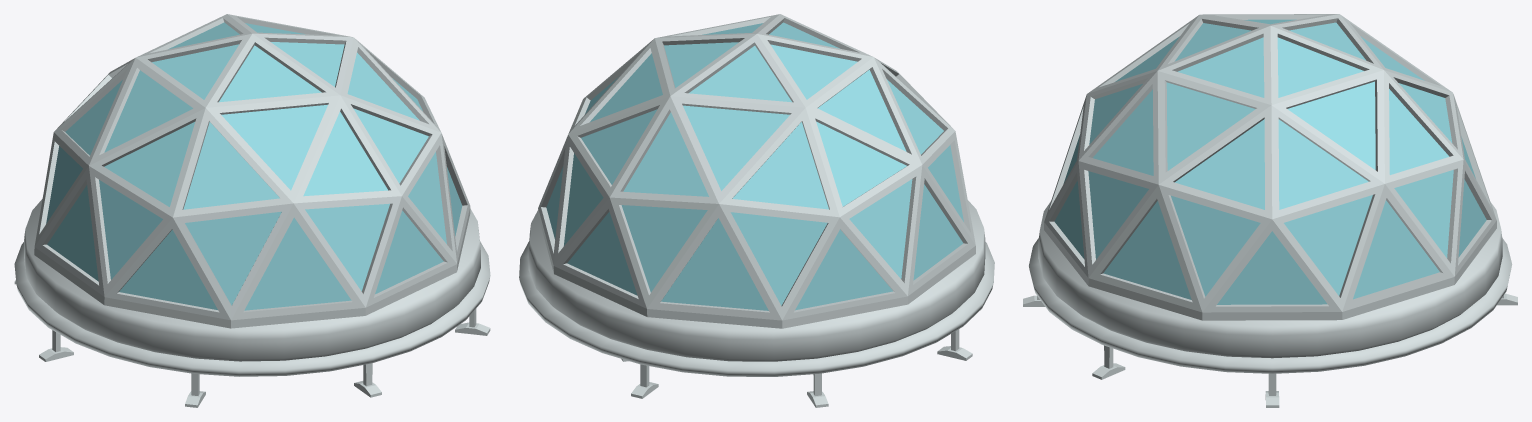
Rendered from Greenhouse.fbx.
3 renders of one model, left to right at view 1: azimuth 30°, elevation 25°; view 2: azimuth 150°, elevation 25°; view 3: azimuth 270°, elevation 25°, orthographic.
Parts seen in each view (by area): view 1: Greenhouse_Frame_Base, Dome_Glass_Panels; view 2: Greenhouse_Frame_Base, Dome_Glass_Panels; view 3: Greenhouse_Frame_Base, Dome_Glass_Panels.
Part boxes in pixels (bbox=[...]): Greenhouse_Frame_Base: bbox=[14, 14, 490, 407]; Dome_Glass_Panels: bbox=[46, 22, 462, 310]; Greenhouse_Frame_Base: bbox=[519, 14, 994, 407]; Dome_Glass_Panels: bbox=[546, 22, 963, 310]; Greenhouse_Frame_Base: bbox=[1023, 14, 1517, 407]; Dome_Glass_Panels: bbox=[1054, 19, 1486, 304].
Bounding box in the file's own units: 853 × 528 × 853.
